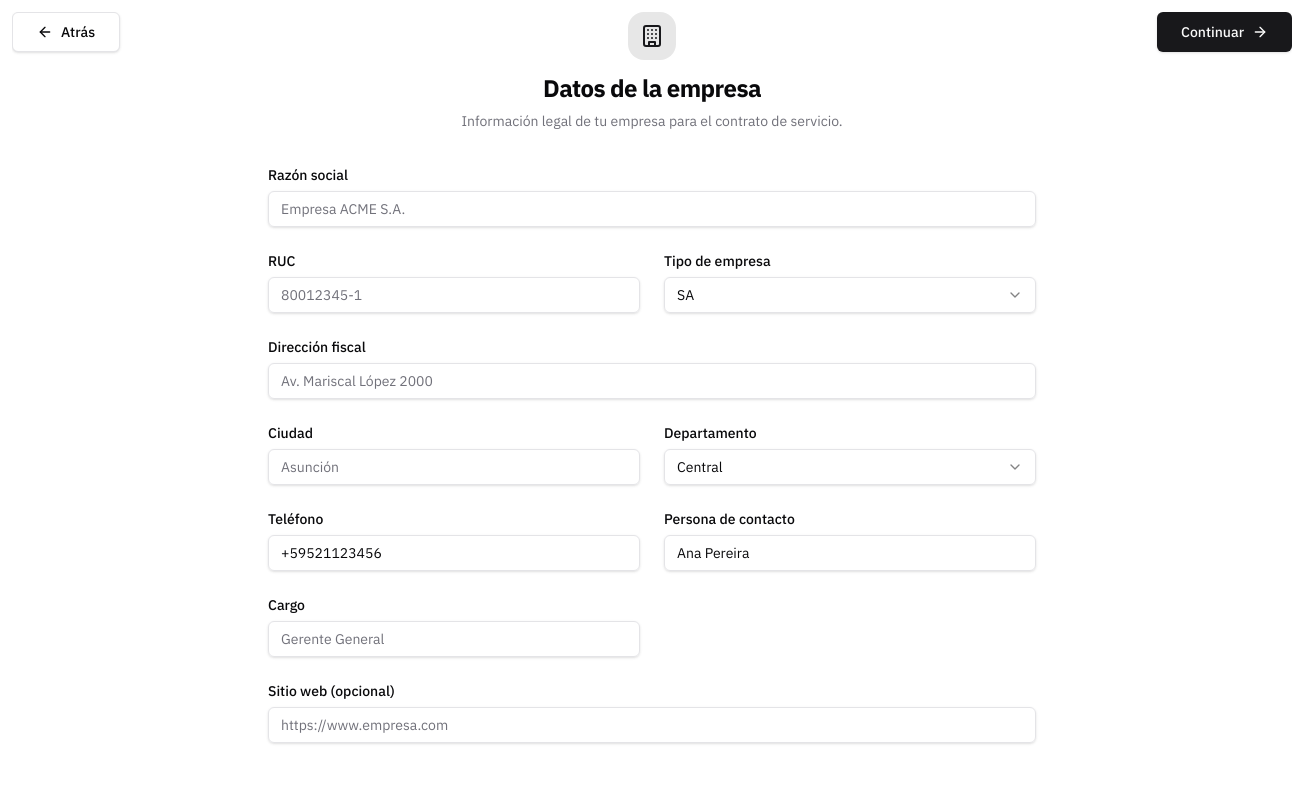
Test: StepCompanyData › validates RUC pattern — rejects invalid RUC
Type "INVALID" into the field labelled "RUC" at (454, 295), box x1=268 y1=277 x2=640 y2=313
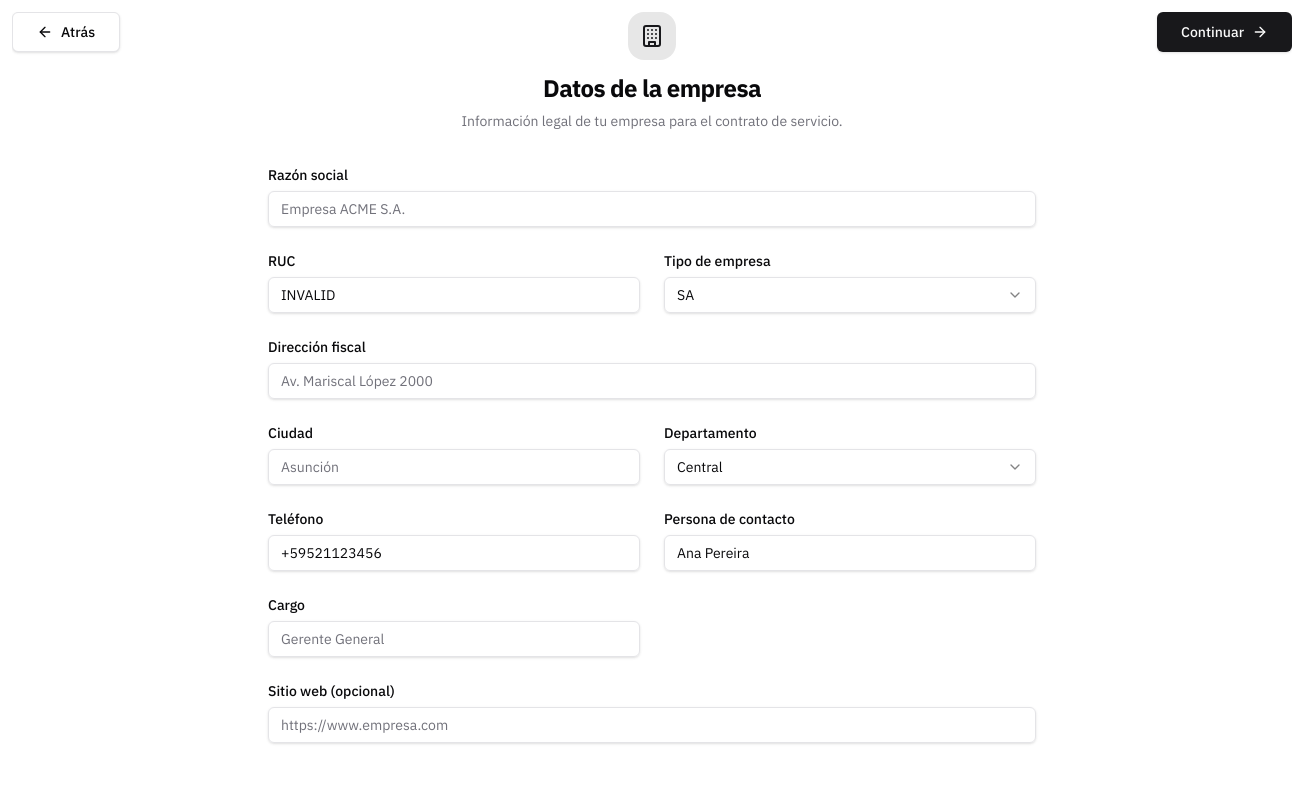
Click the button "Continuar" at (1224, 32), box x1=1157 y1=12 x2=1292 y2=52
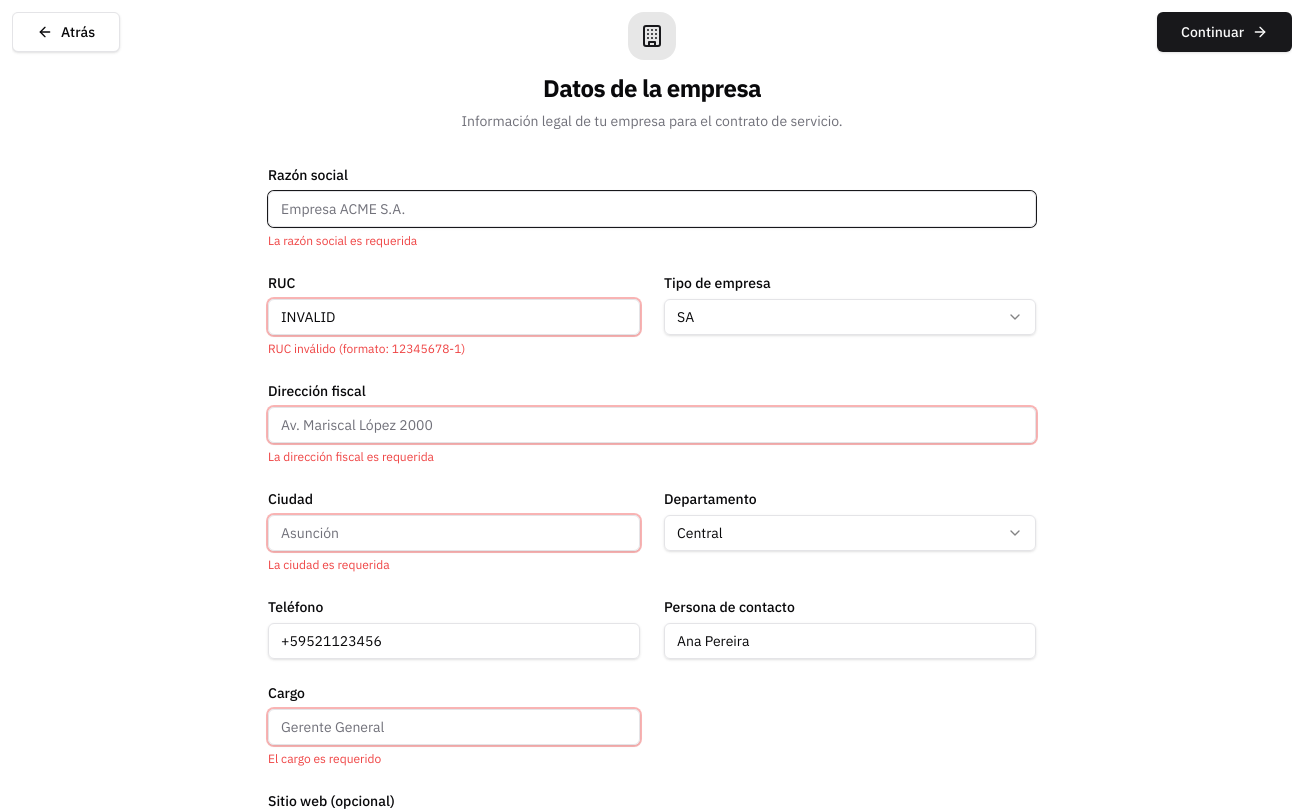
expect the text "RUC inválido (formato: 12345678-1)" is shown: met, box x1=268 y1=341 x2=465 y2=356
